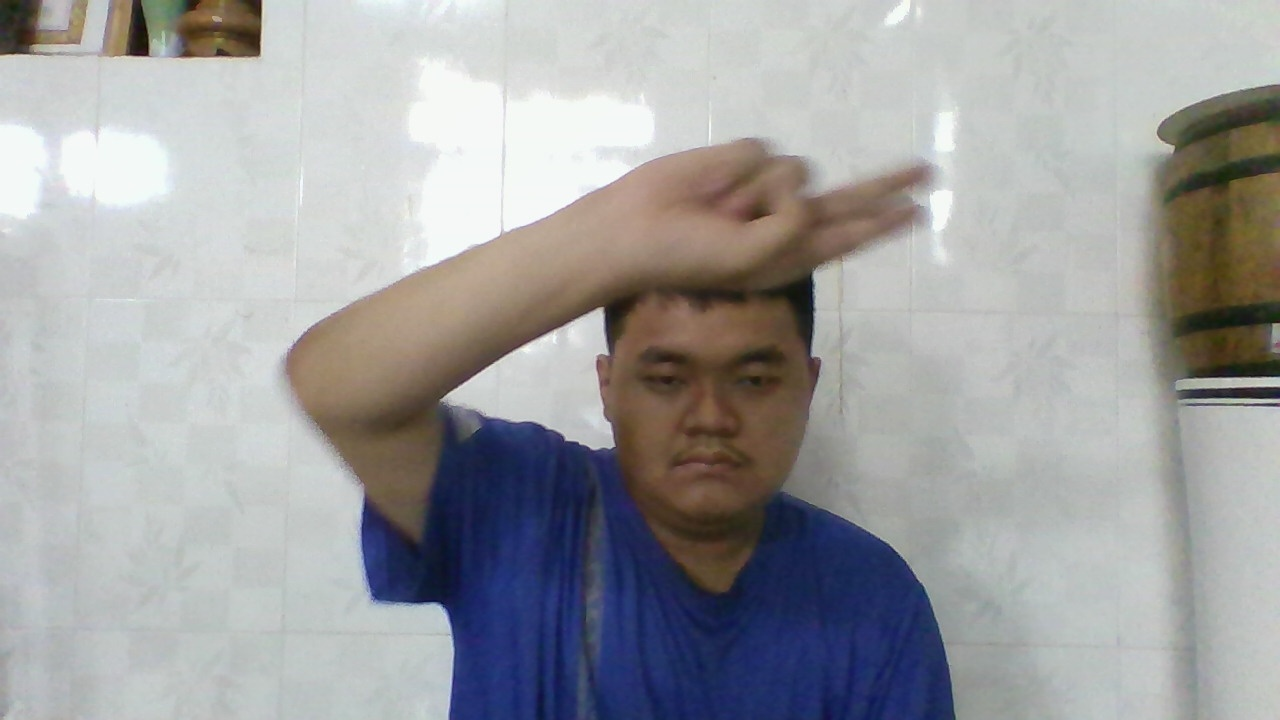U: (616, 136, 937, 276)
